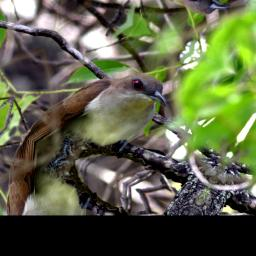Cuckoo: (24, 44, 179, 181)
